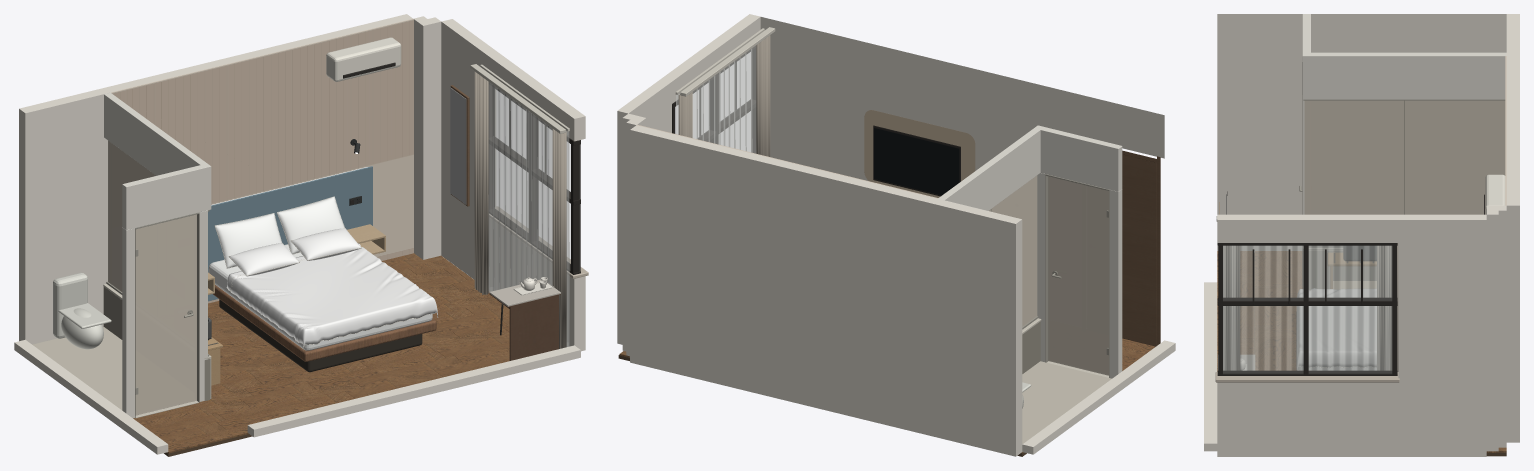
File: guest-room.glb
The picture shows the model from 3 angles, left to right: view 1: azimuth 30°, elevation 25°; view 2: azimuth 150°, elevation 25°; view 3: azimuth 270°, elevation 25°; orthographic projection.
Parts seen in each view (by area): view 1: 床头暖灰可擦洗墙布, 现有暖木拼接地板, 上侧墙, 双人棉被 · 两侧和床尾自然垂落, 卫浴门·磨砂门叶, 全幅白纱｜北幅, 右侧实墙, 一体床靠面板｜2400 × 1050 × 18 mm, 全幅白纱｜南幅, 电视侧外墙剖切基座, 错台短边 A, 卫浴东隔断·暖白上封板 (+33 smaller); view 2: 上侧墙, 下侧主墙, 卫浴门·磨砂门叶, 原入口门示意, 原电视面板, 卫浴入口·暖白上封板, 卫浴东隔断·暖白上封板, 浴室内侧·地坪, 门楣, 全幅白纱｜南幅, 右侧实墙, 电视圆角浅背板｜1300 × 820 × 13 mm (+15 smaller); view 3: 左侧墙, 右侧实墙, 薄窗玻璃, 窗下墙, 卫浴东隔断·磨砂玻璃1, 卫浴东隔断·磨砂玻璃2, 全幅白纱｜北幅, 卫浴东隔断·暖白上封板, 全幅白纱｜南幅, 现有暖木拼接地板, 上侧墙, 窗上墙 (+21 smaller).
Part boxes in pixels (x1,y1,x2,y2): 床头暖灰可擦洗墙布: (111,18,413,303); 现有暖木拼接地板: (133,253,509,453); 上侧墙: (19,14,412,344); 双人棉被 · 两侧和床尾自然垂落: (226,243,437,346); 卫浴门·磨砂门叶: (135,214,196,415); 全幅白纱｜北幅: (488,82,526,292); 右侧实墙: (441,19,495,279); 一体床靠面板｜2400 × 1050 × 18 mm: (208,166,372,301); 全幅白纱｜南幅: (526,109,569,346); 电视侧外墙剖切基座: (247,345,580,437); 错台短边 A: (414,16,433,259); 卫浴东隔断·暖白上封板: (104,92,211,210); 上侧墙: (630,125,1022,456); 下侧主墙: (760,17,1085,180); 卫浴门·磨砂门叶: (1048,176,1108,375); 原入口门示意: (1122,154,1156,346); 原电视面板: (874,128,959,195); 卫浴入口·暖白上封板: (1038,126,1122,191); 卫浴东隔断·暖白上封板: (938,125,1043,210); 浴室内侧·地坪: (1022,361,1111,443); 门楣: (1086,96,1164,158); 全幅白纱｜南幅: (720,46,756,153); 右侧实墙: (617,79,671,344); 电视圆角浅背板｜1300 × 820 × 13 mm: (864,110,975,197); 左侧墙: (1217,14,1506,250); 右侧实墙: (1398,214,1486,456); 薄窗玻璃: (1223,246,1391,372); 窗下墙: (1217,382,1398,456); 卫浴东隔断·磨砂玻璃1: (1304,100,1404,214); 卫浴东隔断·磨砂玻璃2: (1404,100,1505,214); 全幅白纱｜北幅: (1308,245,1392,370); 卫浴东隔断·暖白上封板: (1302,52,1506,99); 全幅白纱｜南幅: (1223,245,1303,370); 现有暖木拼接地板: (1217,251,1506,452); 上侧墙: (1506,14,1519,442); 窗上墙: (1217,214,1398,242).
Size of the model in its own units: 5.01 by 2.66 by 3.14.
49 materials, 9 textured.
